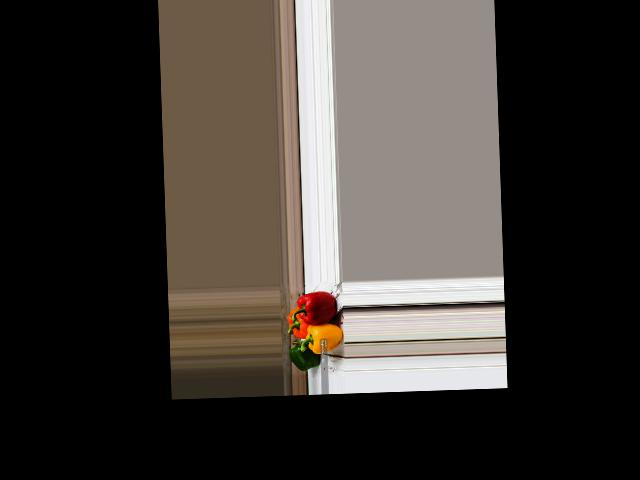bell_pepper: (286, 306, 310, 340)
